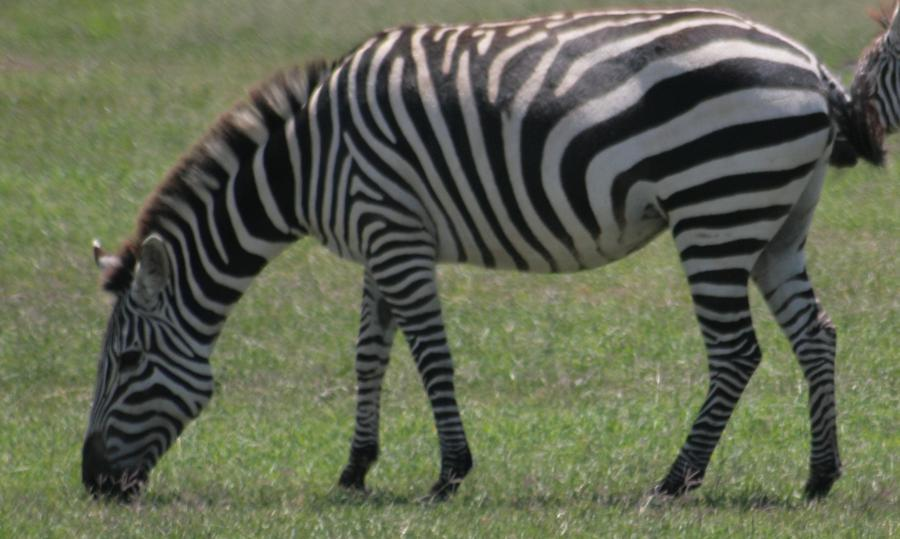zebra_plains: (291, 10, 812, 287)
